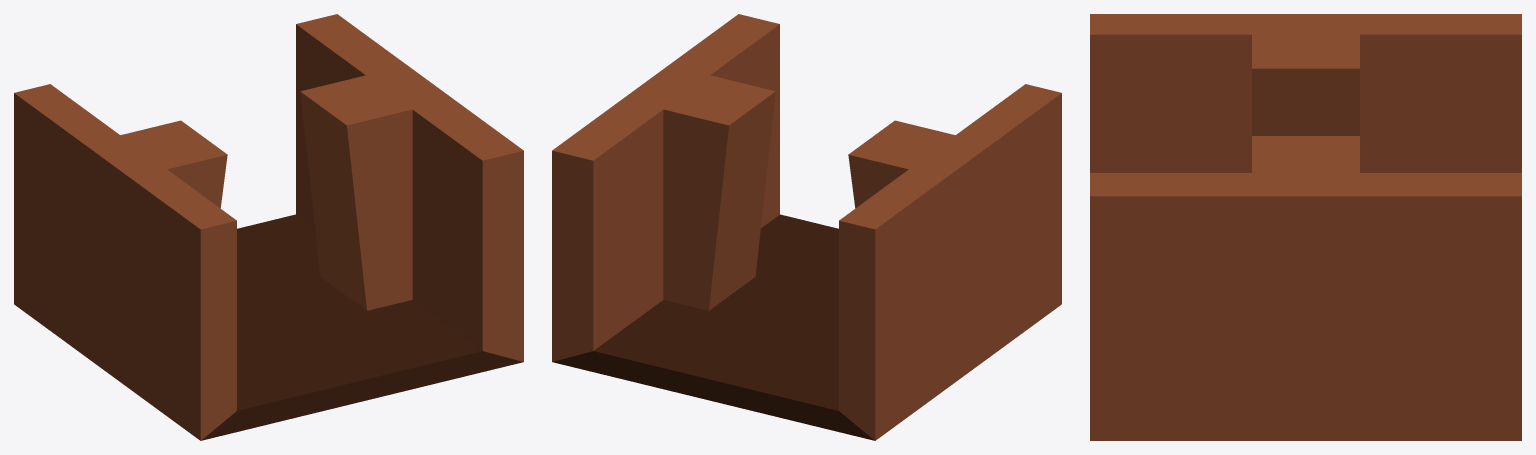
Rendered from interiorwall-tunnel.fbx.
The picture shows the model from 3 angles, left to right: view 1: azimuth 30°, elevation 25°; view 2: azimuth 150°, elevation 25°; view 3: azimuth 270°, elevation 25°; orthographic projection. The views are drawn at different scales.
Parts seen in each view (by area): view 1: interiorwall; view 2: interiorwall; view 3: interiorwall.
Part boxes in pixels (x1,y1,x2,y2): interiorwall: [14, 14, 523, 440]; interiorwall: [552, 14, 1061, 440]; interiorwall: [1090, 14, 1521, 440].
Bounding box in the file's own units: 320 × 200 × 320.
